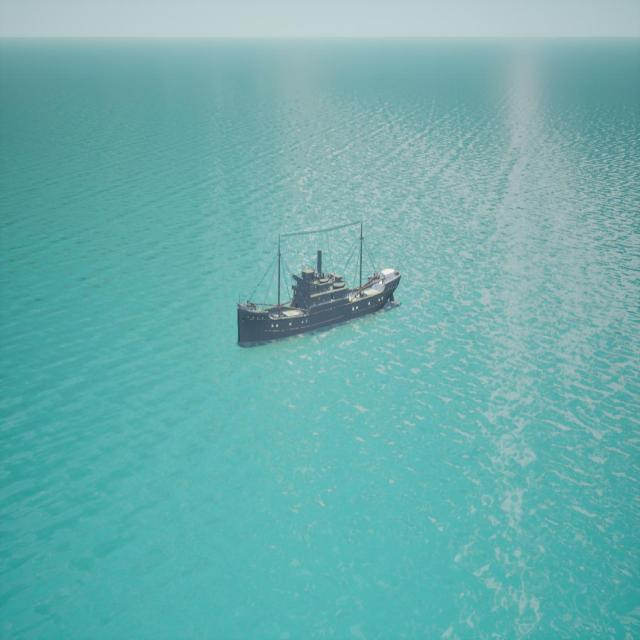fishing ship: (238, 249, 401, 348)
